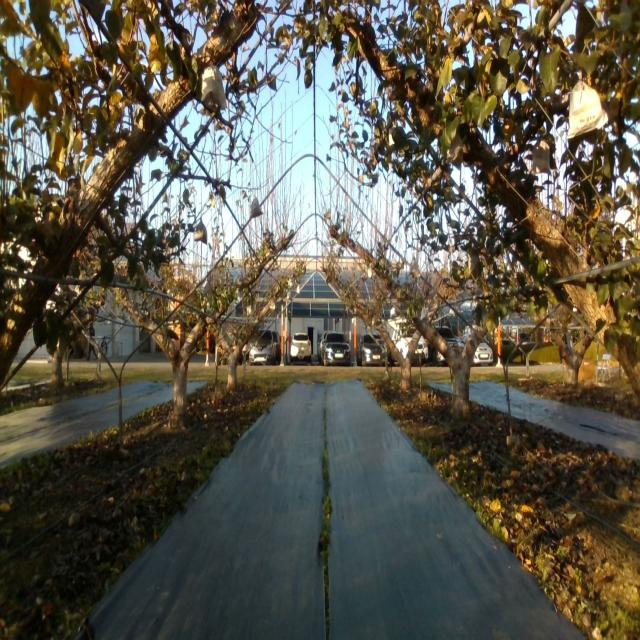pearbags: (567, 79, 609, 139), (201, 65, 227, 110), (531, 139, 551, 175), (195, 218, 208, 244), (250, 198, 262, 218), (409, 257, 420, 277)
